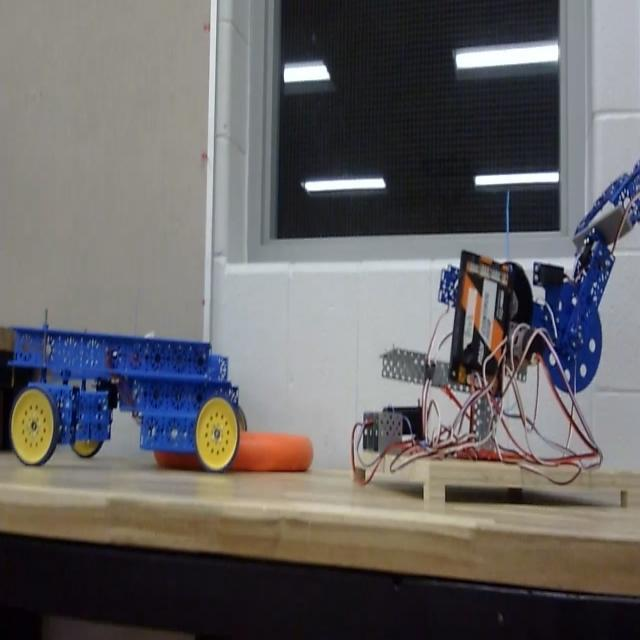note: (154, 431, 312, 474)
